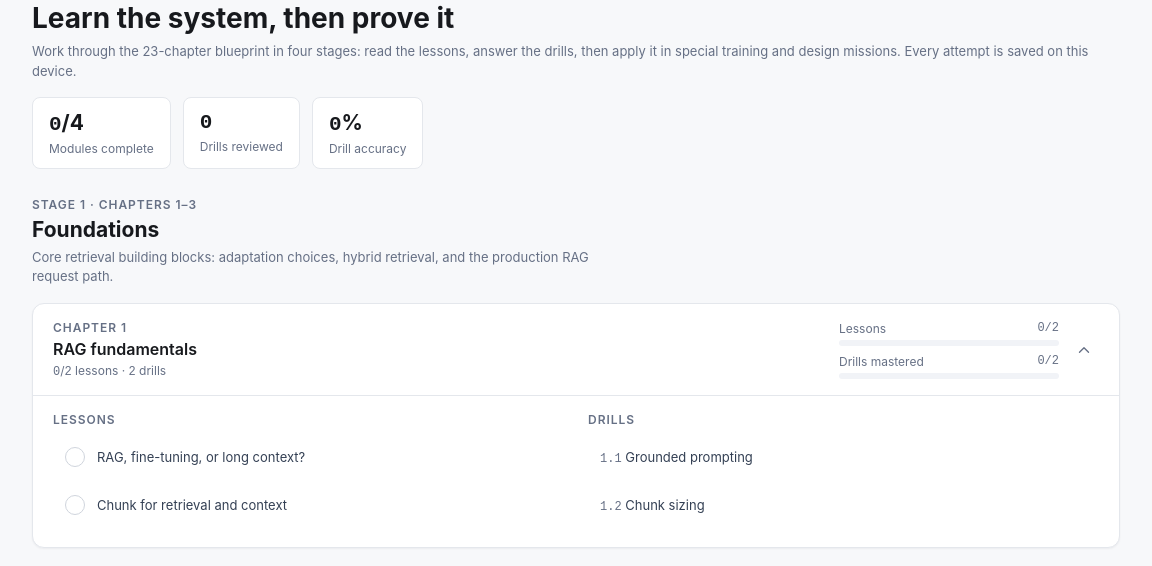
Test case: PathPage › answers a drill inline, records the attempt, and refreshes badge and mastery
Click the button "1.1 Grounded prompting". click: (689, 457)
box: [588,435,1099,479]
(page scrolled)
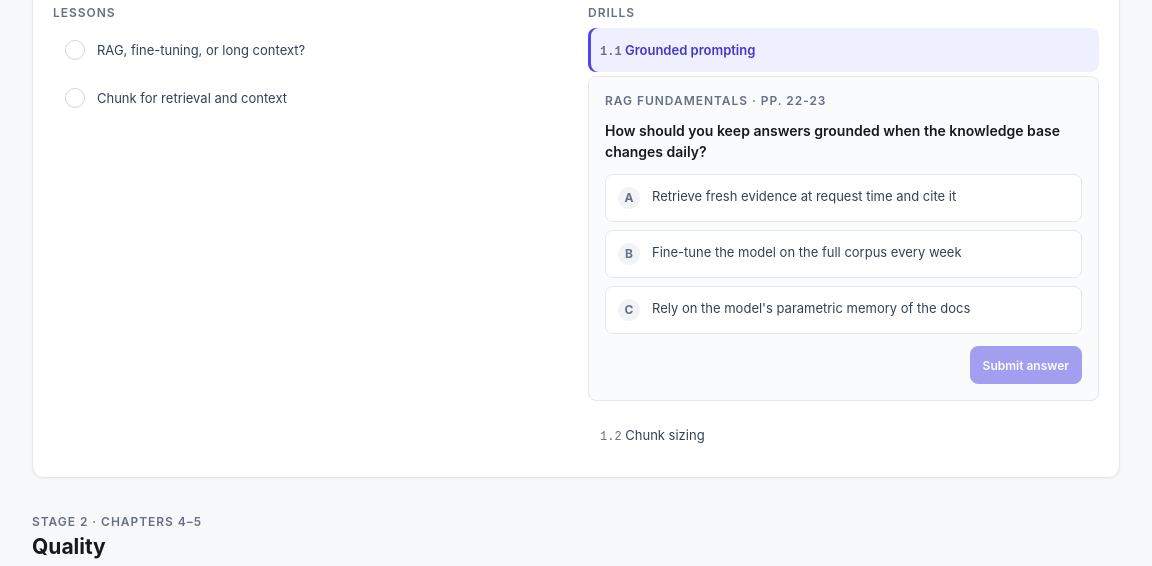
Click the button "C Rely on the model's parametric memory of the docs". click: (844, 310)
box: [605,286,1082,334]
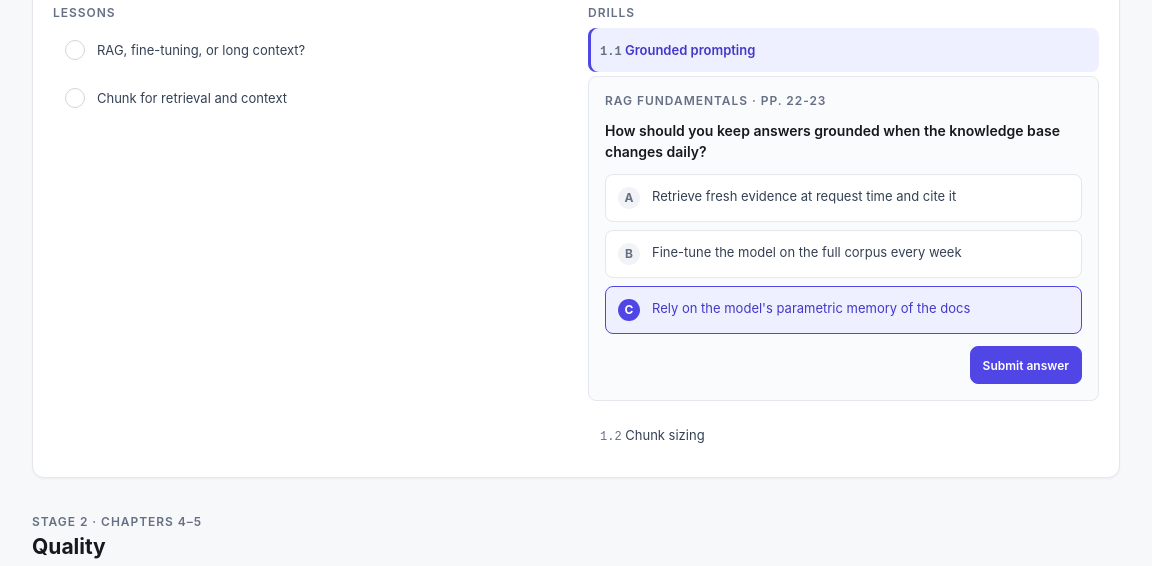
Click the button "Submit answer". click: (1026, 365)
box: [970,346,1082,384]
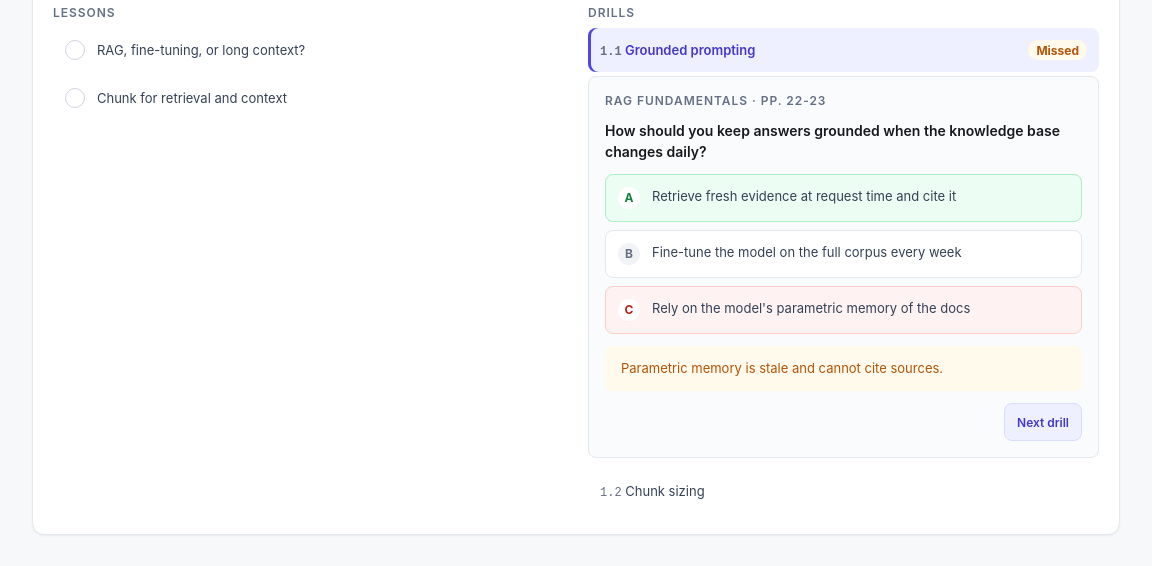
Expected: the message shows "Parametric memory is stale", [621,360,943,376]
Expected: the button "1.1 Grounded prompting Missed" is shown, [588,28,1099,72]
